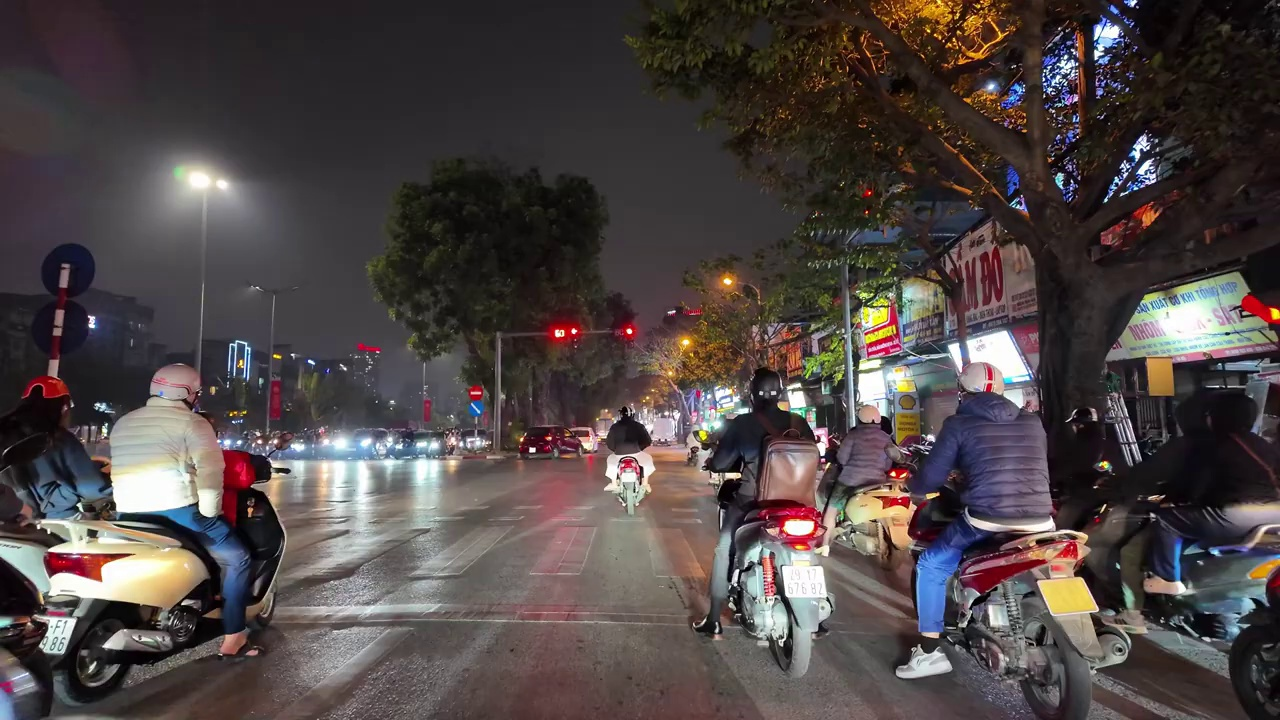acesa: (181, 165, 223, 196), (715, 271, 740, 295)
